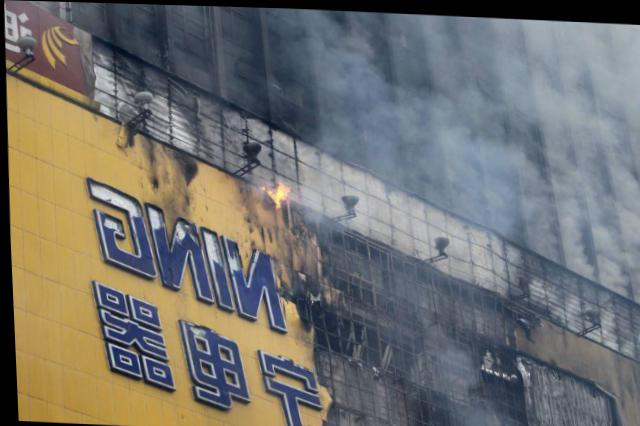fire: (272, 180, 290, 205)
smoke: (324, 7, 639, 175), (477, 167, 639, 231)
